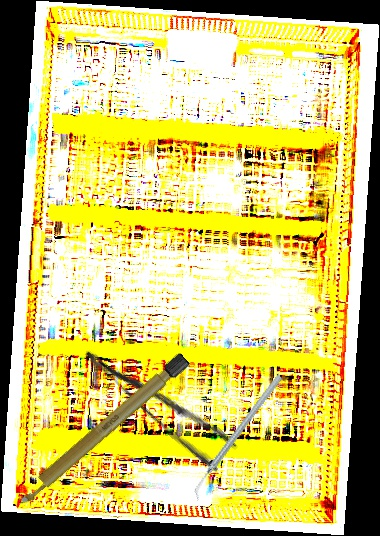Chopper: (162, 373, 314, 501)
Dressing Forceps: (81, 327, 240, 476)
Scalpel Handle: (13, 351, 191, 510)
